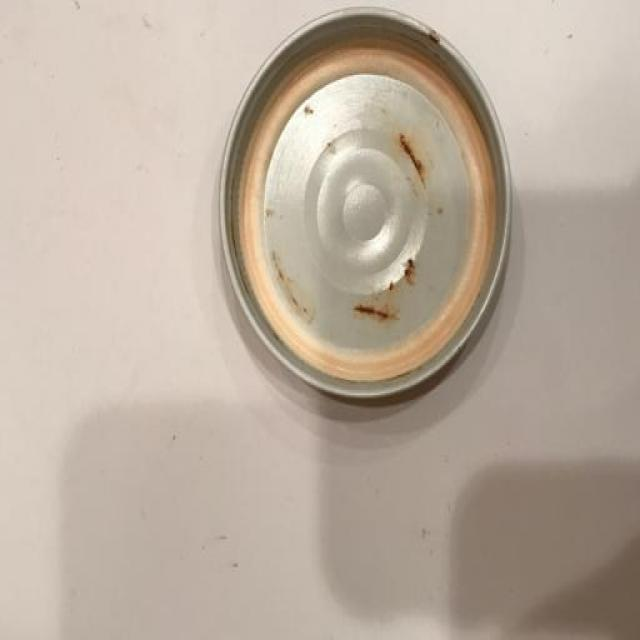metel: (223, 1, 527, 411)
